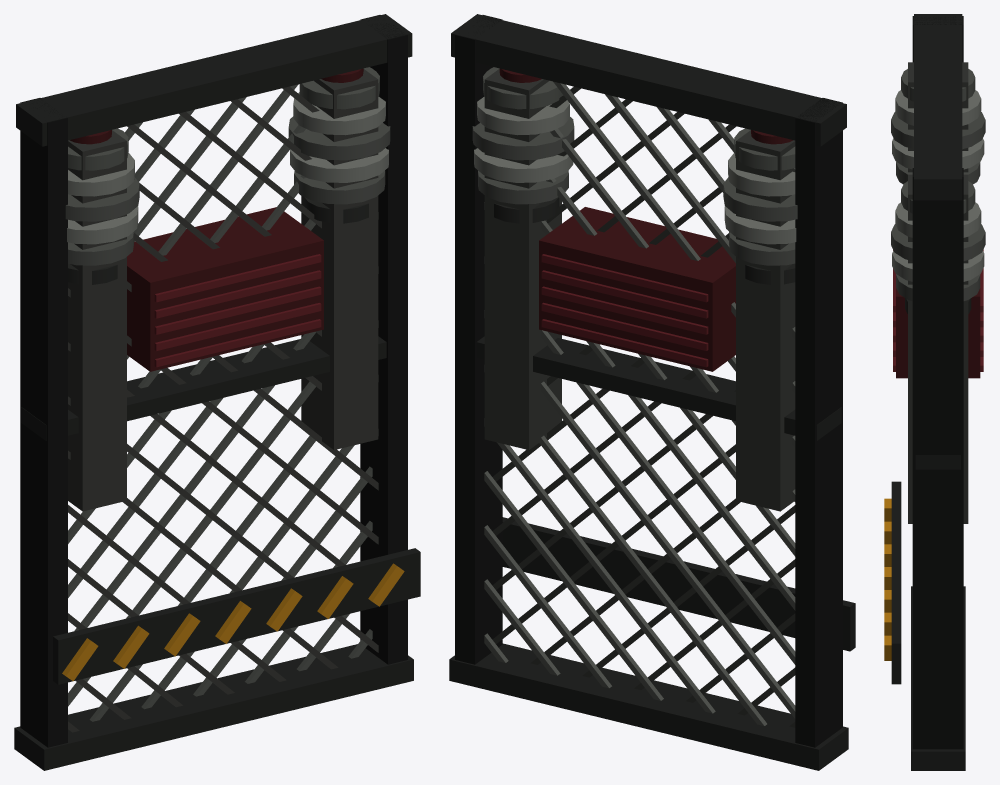
File: CMU3DElectrifiedGrilleCloud.glb
3 views of the same model, side by side, from view 1: azimuth 30°, elevation 25°; view 2: azimuth 150°, elevation 25°; view 3: azimuth 270°, elevation 25° (orthographic). The views are drawn at different scales.
Parts seen in each view (by area): view 1: mesh side upright (×2), open diamond mesh wire (×21), coil post (×2), upper support rail, Tesla insulator coil ring (×11), red insulated conductor casing, lower support rail, warning rail black backing, middle reinforcement rail, red casing cooling rib (×5); view 2: mesh side upright (×2), open diamond mesh wire (×24), coil post (×2), upper support rail, Tesla insulator coil ring (×11), red insulated conductor casing, lower support rail, warning rail black backing, middle reinforcement rail, red casing cooling rib (×5); view 3: mesh side upright (×2), upper support rail, Tesla insulator coil ring (×10), coil post (×2), warning rail black backing, lower support rail, red insulated conductor casing, middle reinforcement rail, red casing cooling rib, yellow diagonal warning stripe.
Part boxes in pixels (x1,y1,x2,y2): mesh side upright (×2): [20, 15, 407, 747]; open diamond mesh wire (×21): [68, 84, 378, 721]; coil post (×2): [68, 69, 378, 511]; upper support rail: [16, 14, 412, 146]; Tesla insulator coil ring (×11): [65, 67, 390, 265]; red insulated conductor casing: [127, 207, 323, 371]; lower support rail: [14, 644, 413, 770]; warning rail black backing: [53, 548, 420, 684]; middle reinforcement rail: [21, 336, 386, 440]; red casing cooling rib (×5): [154, 254, 321, 367]; mesh side upright (×2): [455, 15, 842, 747]; open diamond mesh wire (×24): [484, 81, 795, 725]; coil post (×2): [484, 69, 795, 511]; upper support rail: [451, 14, 846, 146]; Tesla insulator coil ring (×11): [472, 67, 797, 265]; red insulated conductor casing: [539, 207, 735, 371]; lower support rail: [449, 643, 848, 770]; warning rail black backing: [502, 517, 855, 651]; middle reinforcement rail: [476, 336, 841, 440]; red casing cooling rib (×5): [541, 254, 708, 367]; mesh side upright (×2): [912, 16, 963, 749]; upper support rail: [914, 14, 962, 200]; Tesla insulator coil ring (×10): [891, 69, 985, 300]; coil post (×2): [908, 62, 968, 523]; warning rail black backing: [891, 481, 901, 684]; lower support rail: [911, 586, 965, 770]; red insulated conductor casing: [896, 288, 980, 378]; middle reinforcement rail: [915, 455, 960, 469]; red casing cooling rib: [893, 249, 983, 312]; yellow diagonal warning stripe: [884, 635, 891, 660].
Size of the model in its own units: 1 by 1.67 by 0.2585.
